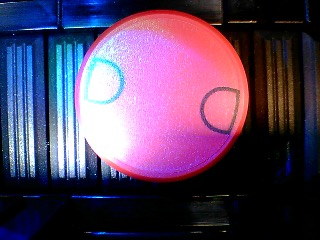MIPO2: (75, 9, 249, 182)
